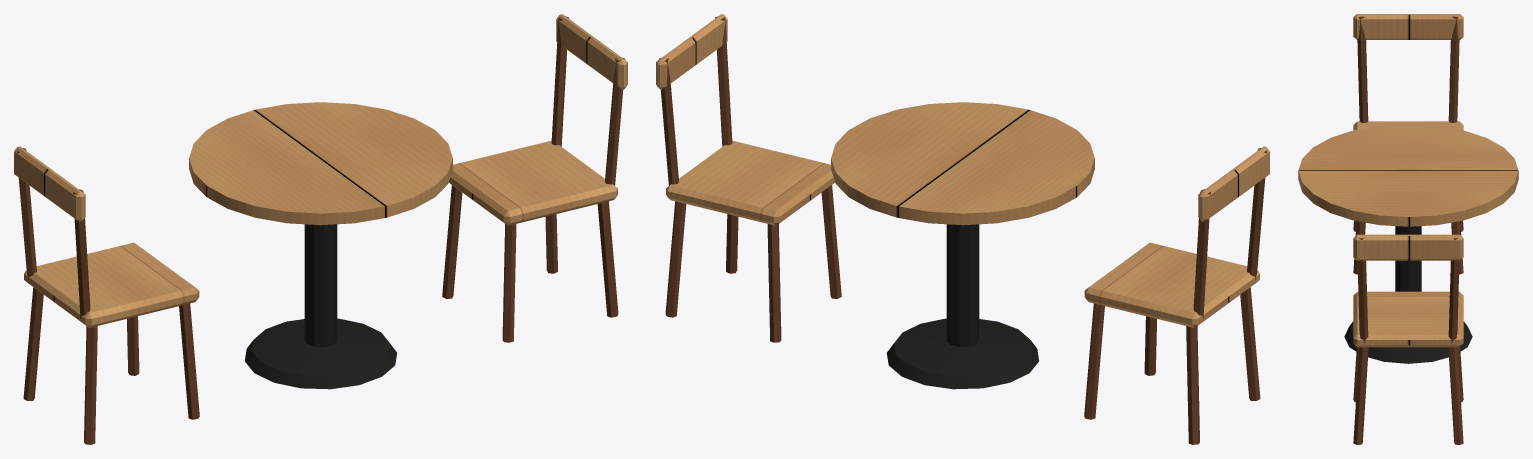
File: set-two.glb
3 views of the same model, side by side, from view 1: azimuth 30°, elevation 25°; view 2: azimuth 150°, elevation 25°; view 3: azimuth 270°, elevation 25° (orthographic). The views are drawn at different scales.
Parts seen in each view (by area): view 1: set_two; view 2: set_two; view 3: set_two.
Boxes of the visible parts, bbox=[...] form: set_two: bbox=[14, 14, 627, 444]; set_two: bbox=[656, 14, 1269, 444]; set_two: bbox=[1298, 14, 1518, 444].
Size of the model in its own units: 1.74 by 0.7661 by 0.72.
Materials: 3 (2 with a texture image).
